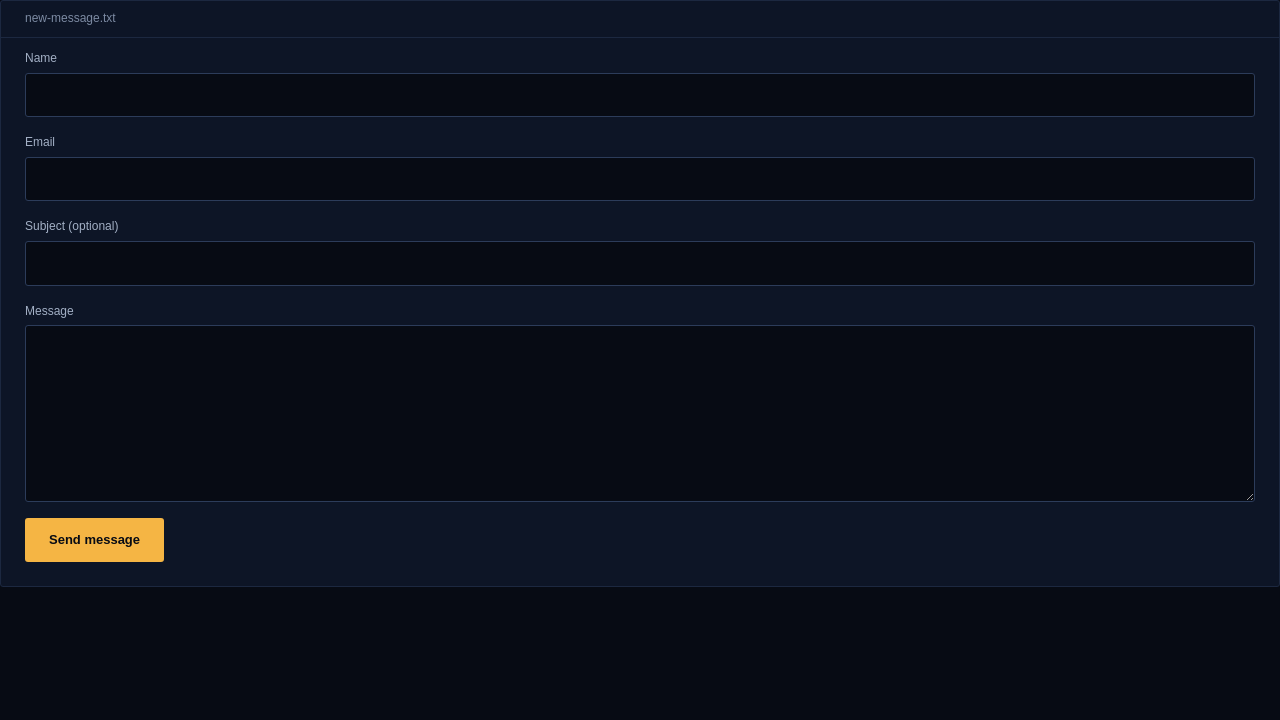
ContactForm › shows field errors and does not send an invalid form
The width and height of the screenshot is (1280, 720).
Click the button "Send message" at (94, 540), box [25,518,164,562]
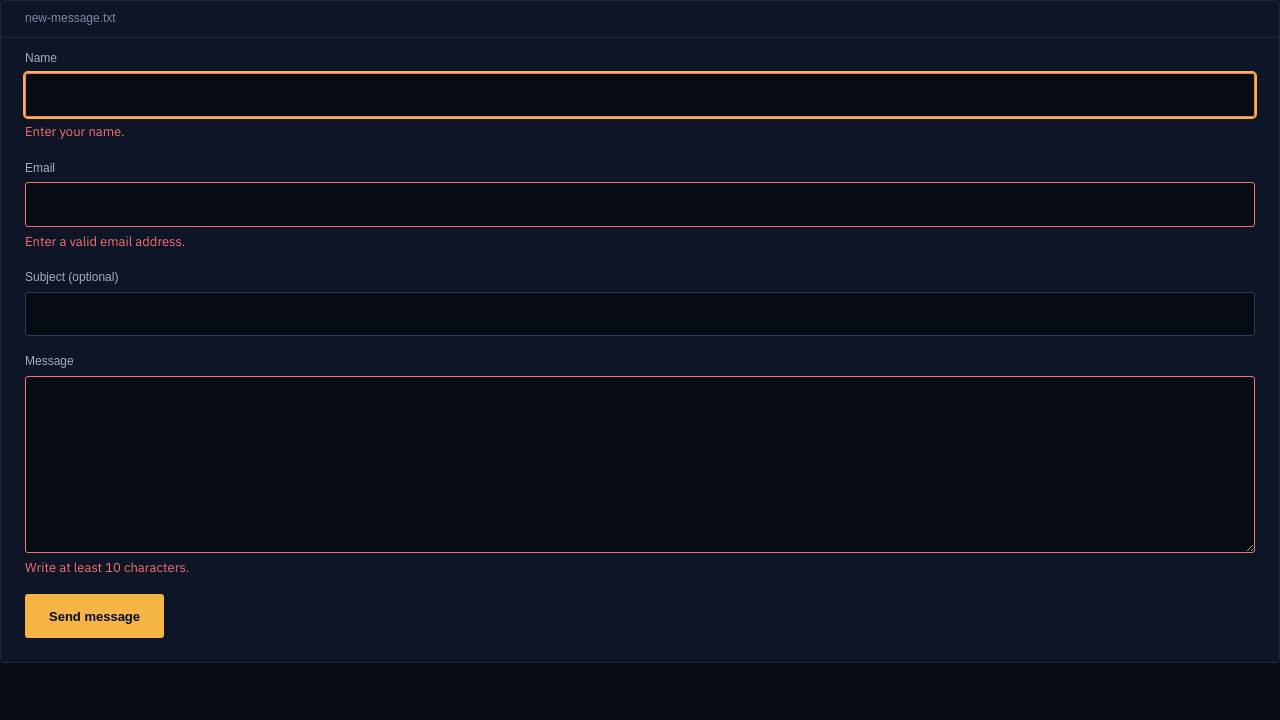
expect the text "Enter your name." is shown: met, box [25,123,124,140]
expect the text "Enter a valid email address." is shown: met, box [25,233,185,250]
